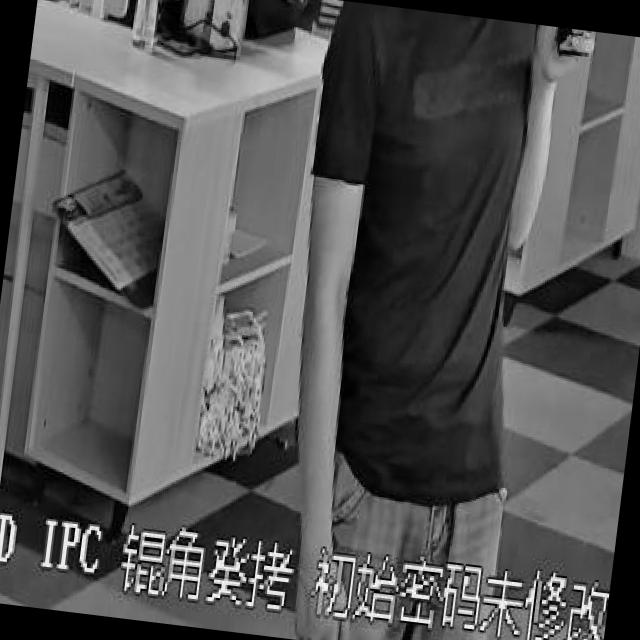Guns: (522, 23, 640, 82)
